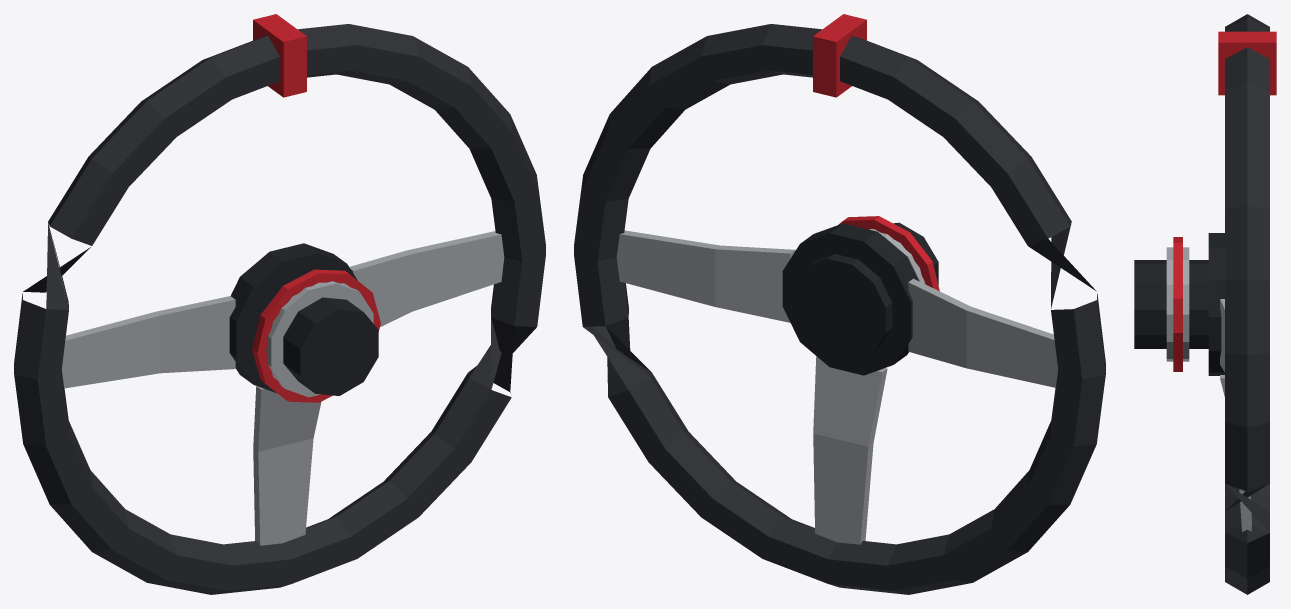
Rendered from brute_500.glb.
3 views of the same model, side by side, from view 1: azimuth 30°, elevation 25°; view 2: azimuth 150°, elevation 25°; view 3: azimuth 270°, elevation 25° (orthographic). The views are drawn at different scales.
Visible parts, largest first — view 1: model; view 2: model; view 3: model.
Part boxes in pixels (x1,y1,x2,y2): model: [14, 14, 545, 594]; model: [574, 14, 1105, 594]; model: [1134, 14, 1276, 594].
Size of the model in its own units: 0.361 by 0.363 by 0.088.
Materials: 3 (1 with a texture image).
